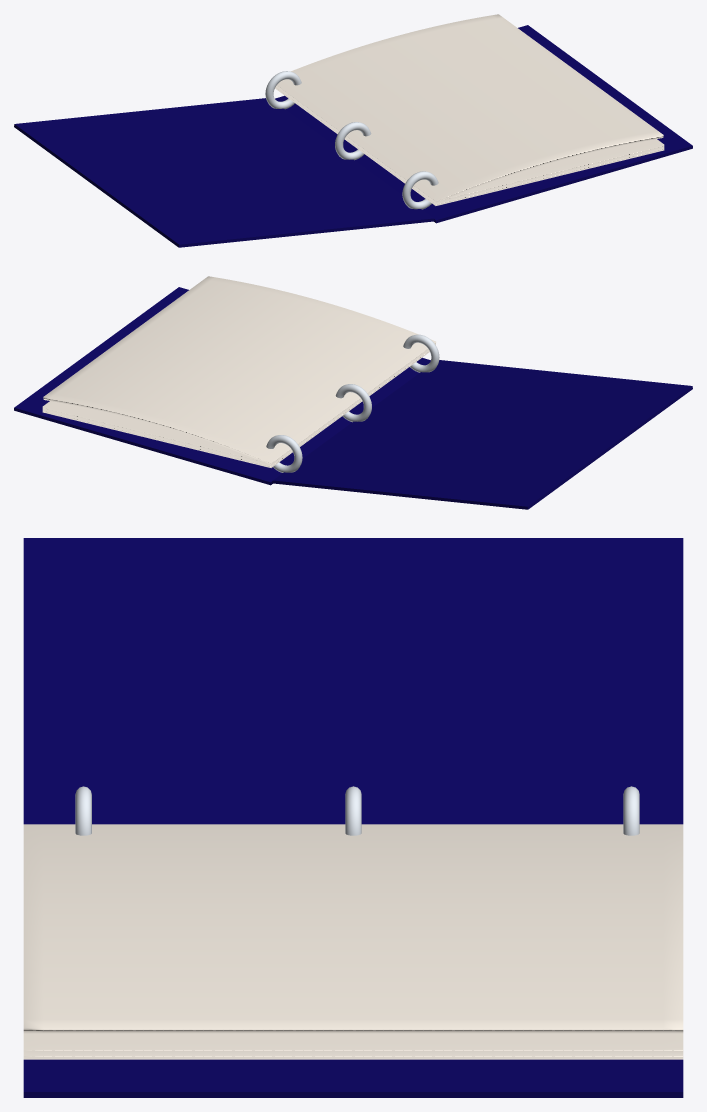
File: Manual.fbx
3 views of the same model, one above another, from view 1: azimuth 30°, elevation 25°; view 2: azimuth 150°, elevation 25°; view 3: azimuth 270°, elevation 25° (orthographic). The views are drawn at different scales.
Parts seen in each view (by area): view 1: Cube, Page, Page.002, Page.001, Torus.002, Torus, Torus.001; view 2: Cube, Page, Page.002, Page.001, Torus, Torus.002, Torus.001; view 3: Cube, Page, Page.002, Page.001.
Part boxes in pixels (<box>): Cube: <box>14,25,692,247</box>; Page: <box>277,14,663,202</box>; Page.002: <box>276,85,664,202</box>; Page.001: <box>275,86,664,205</box>; Torus.002: <box>402,171,438,209</box>; Torus: <box>335,122,371,160</box>; Torus.001: <box>265,71,301,109</box>; Cube: <box>14,287,692,509</box>; Page: <box>43,276,436,464</box>; Page.002: <box>42,343,435,464</box>; Page.001: <box>42,350,429,467</box>; Torus: <box>335,384,371,422</box>; Torus.002: <box>403,334,439,372</box>; Torus.001: <box>266,435,302,472</box>; Cube: <box>23,538,683,1097</box>; Page: <box>23,824,683,1033</box>; Page.002: <box>23,1033,683,1053</box>; Page.001: <box>23,1053,683,1059</box>.
Size of the model in its own units: 360 by 27.64 by 200.
